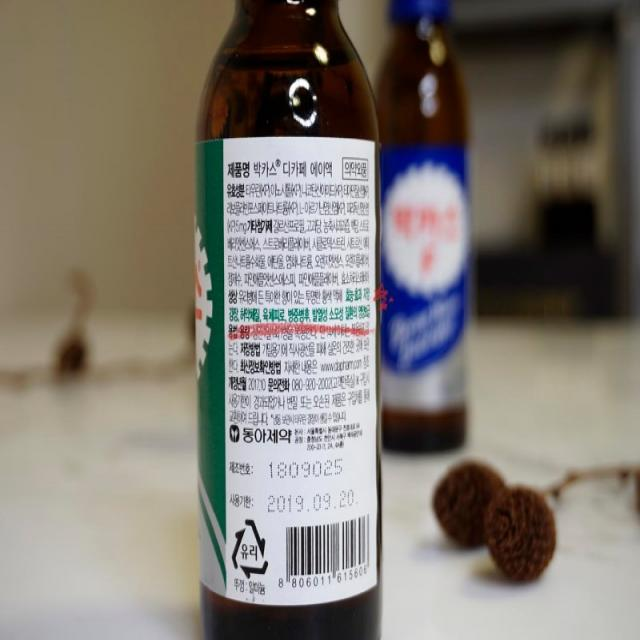Glass: (230, 516, 270, 580)
